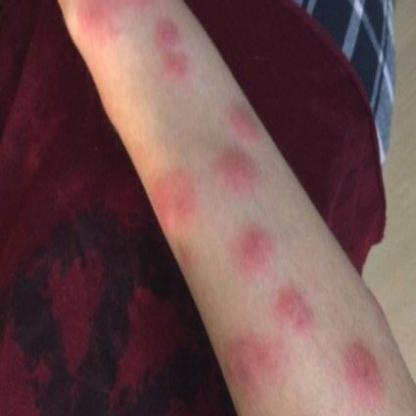Bed Bug: (214, 108, 258, 200), (148, 168, 198, 236), (224, 339, 275, 394), (342, 339, 382, 401), (232, 228, 278, 278), (152, 19, 186, 83), (275, 288, 313, 336), (78, 1, 116, 43), (176, 246, 193, 268)
